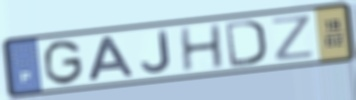A: (86, 34, 137, 83)
D: (223, 18, 269, 69)
G: (43, 38, 86, 87)
H: (177, 22, 227, 74)
J: (139, 29, 174, 75)
Z: (269, 13, 317, 63)
